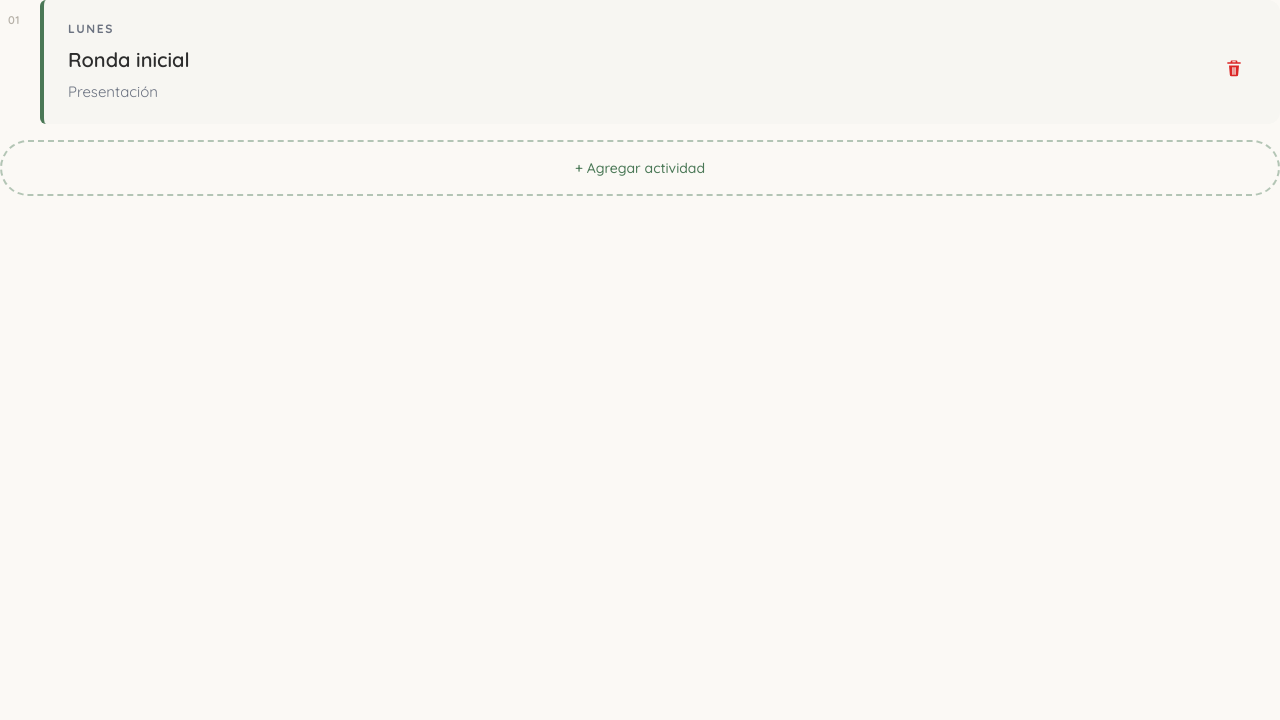
ActividadesTab + PlanContext (integración con MSW) › crea la actividad vía endpoint y la muestra en la DayCard del día elegido
This screenshot has width=1280, height=720.
Expected: the text "Ronda inicial" is shown, left=68, top=47, right=190, bottom=72
Click the button "+ Agregar actividad".
click(640, 168)  # box left=0, top=140, right=1279, bottom=196
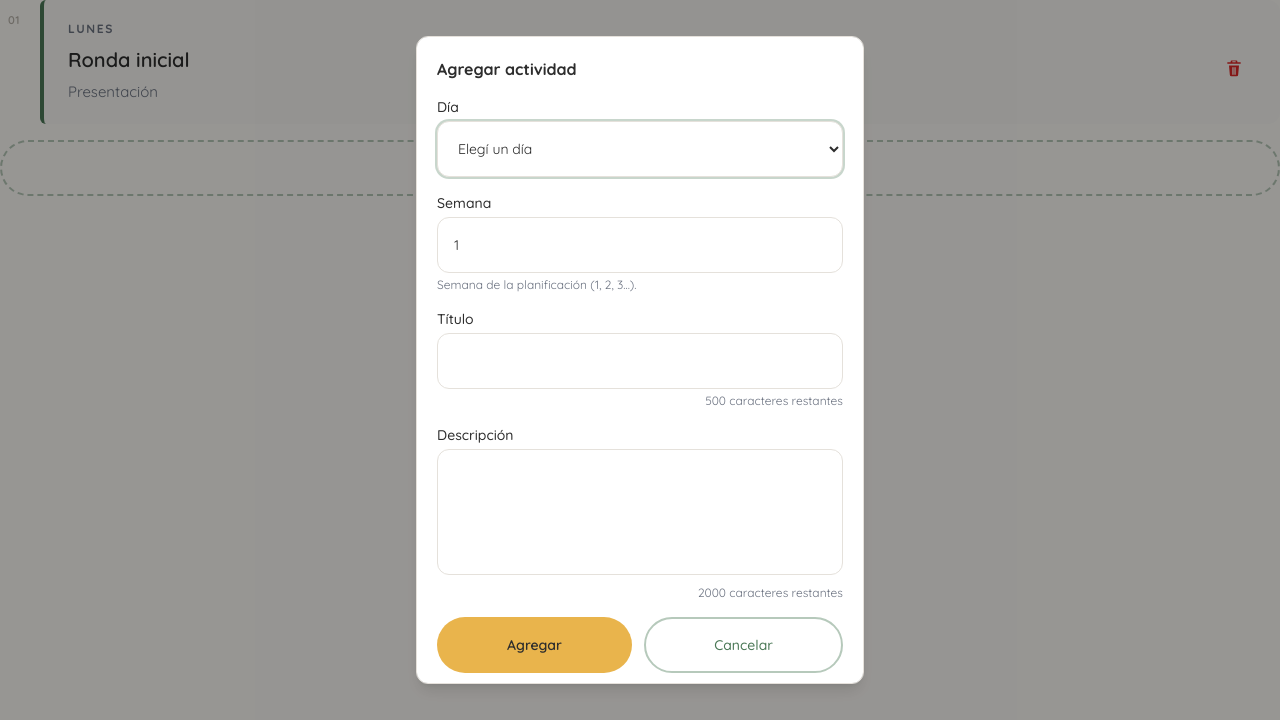
Select "Viernes" in the dropdown labelled "Día" at (640, 149), box left=437, top=121, right=843, bottom=177
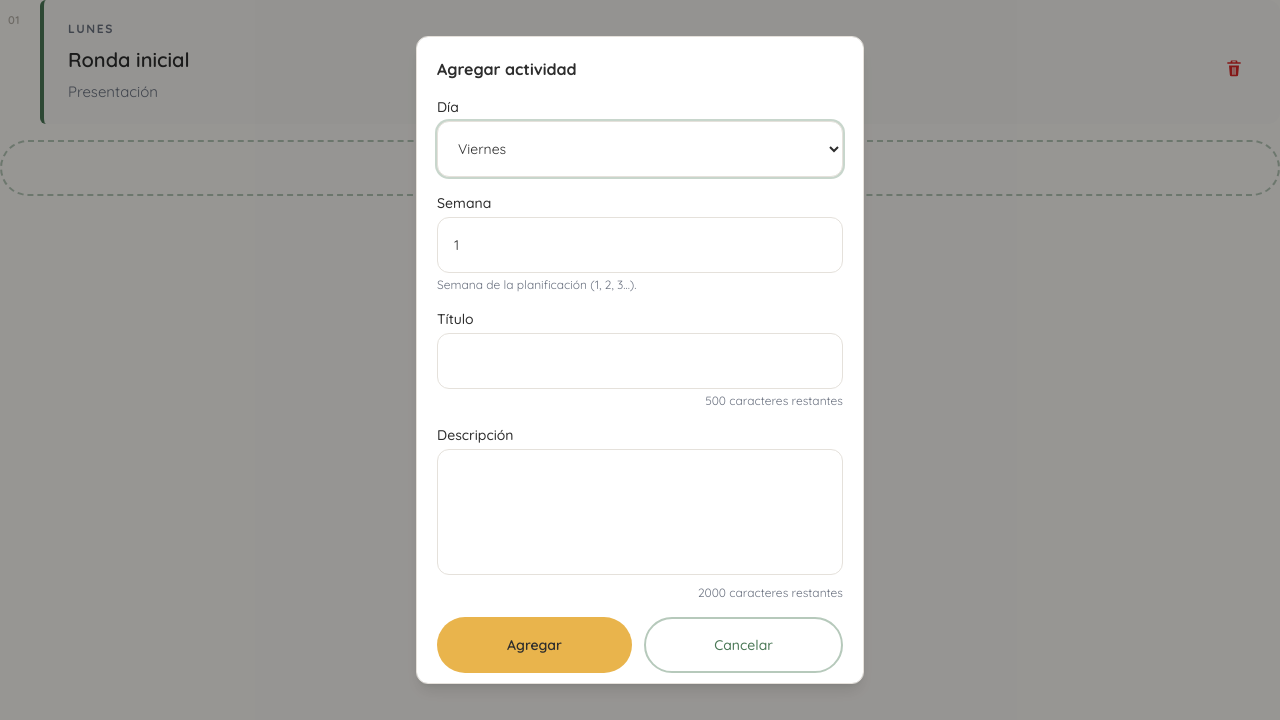
Type "Kermesse del Movimiento" into the field labelled "Título".
click(640, 361); type("Kermesse del Movimiento")  # box left=437, top=333, right=843, bottom=389
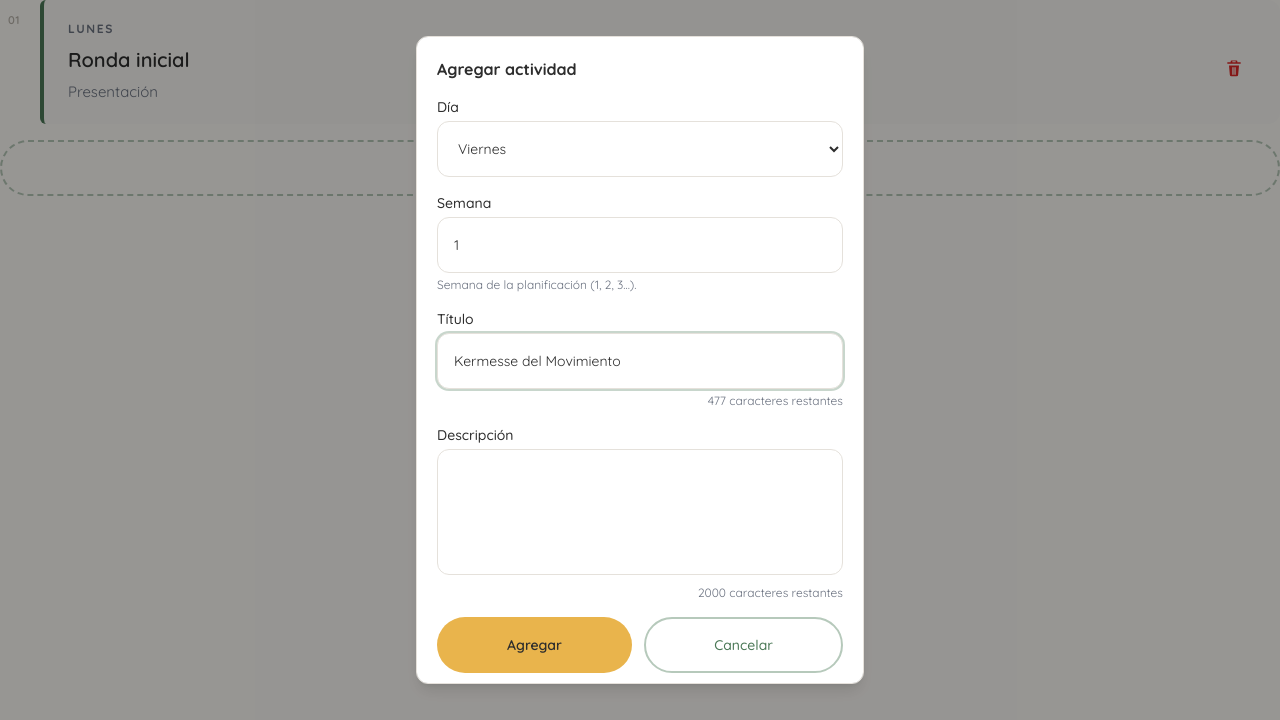
Type "Postas lúdicas con juegos motores" into the text box labelled "Descripción".
click(640, 512); type("Postas lúdicas con juegos motores")  # box left=437, top=449, right=843, bottom=575
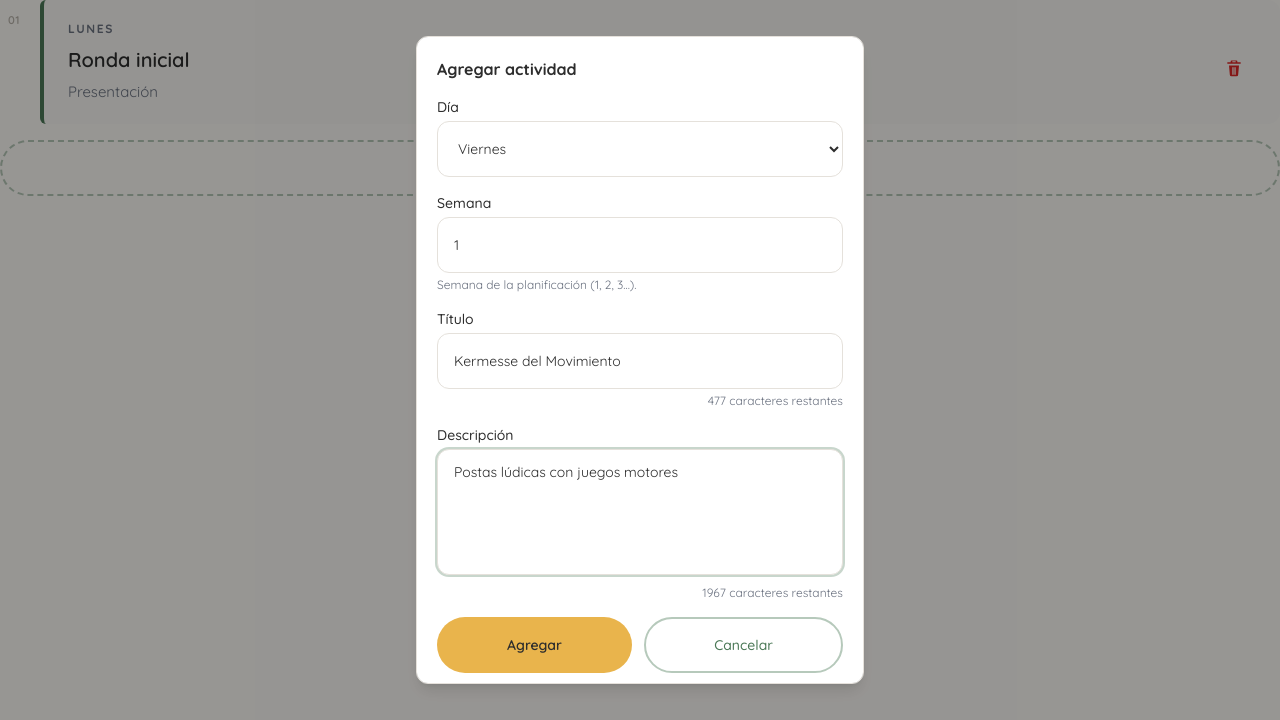
Click the button "Agregar".
click(534, 645)  # box left=437, top=617, right=632, bottom=673
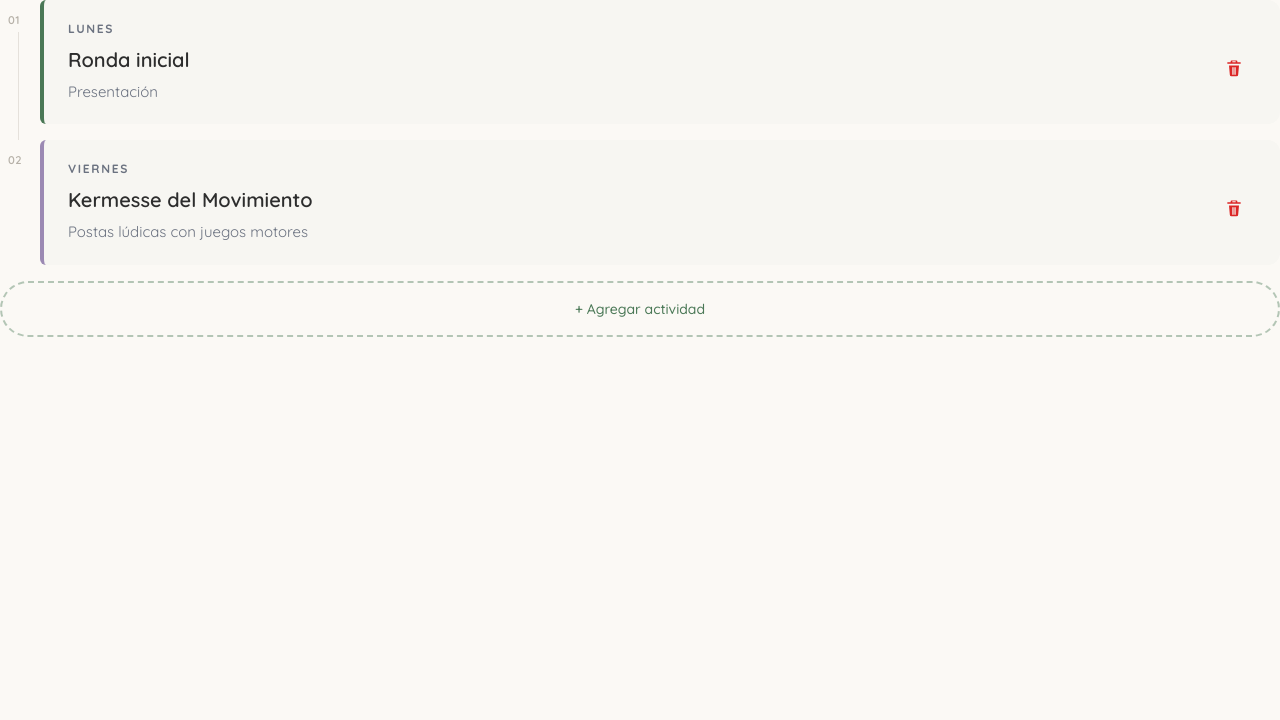
Now the dialog is gone
Now the list item with aria-label "Actividades del Viernes" shows "Kermesse del Movimiento", box left=68, top=187, right=313, bottom=212
Now the list item with aria-label "Actividades del Viernes" shows "Postas lúdicas con juegos motores", box left=68, top=222, right=308, bottom=241
